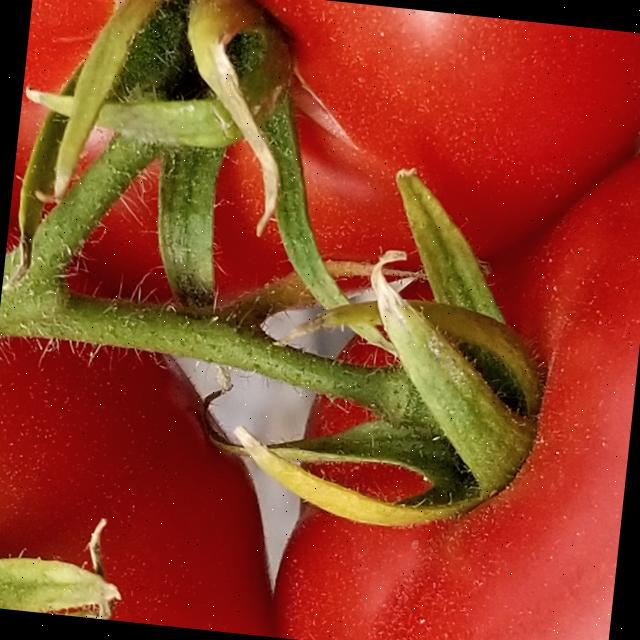tomato: (0, 0, 640, 446), (311, 29, 640, 640), (0, 85, 361, 640)
